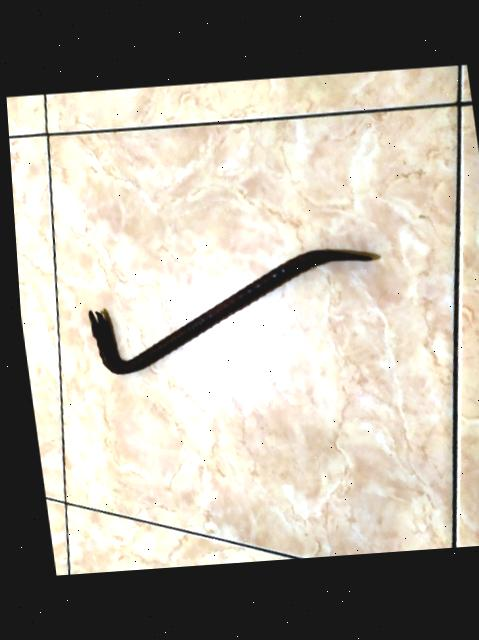crow bar: (82, 242, 383, 396)
